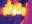Hotspot: (3, 0, 27, 16)
